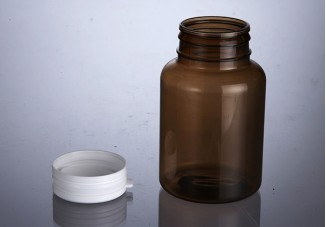medicinejar: (40, 8, 271, 210)
